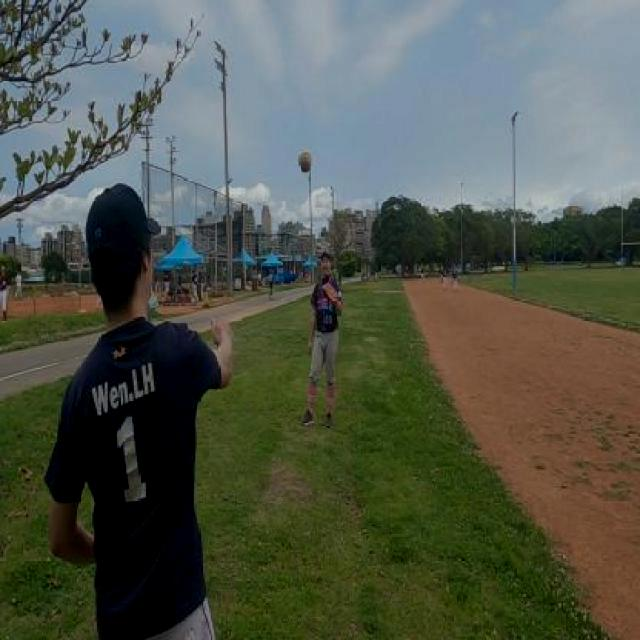ball: (296, 150, 314, 170)
